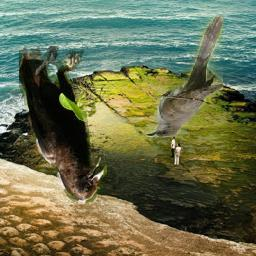Crow: (19, 46, 107, 204)
Cuckoo: (147, 15, 224, 137)
